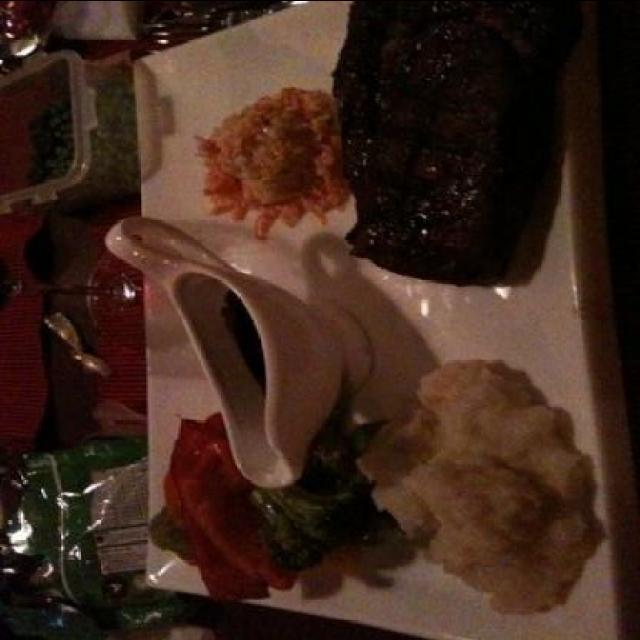Steak: (343, 1, 543, 268)
